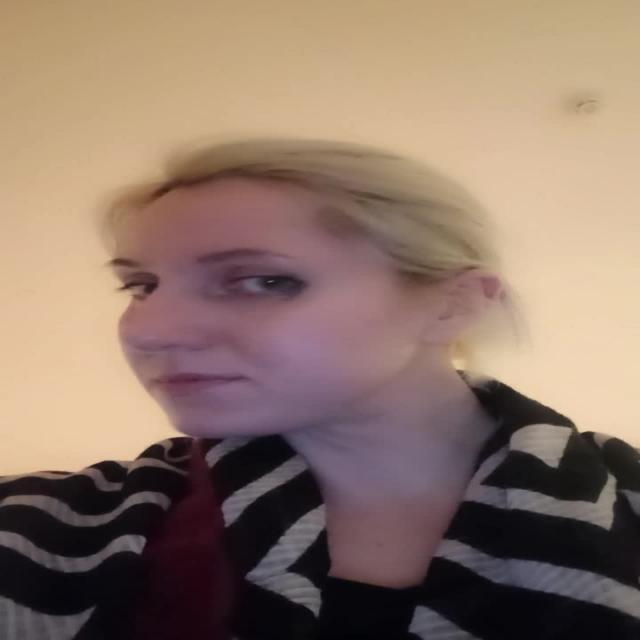earlobe: (421, 319, 461, 348)
eye: (224, 275, 302, 296), (125, 276, 162, 299)
nose: (125, 336, 218, 377)
wholeear: (422, 266, 508, 348)
